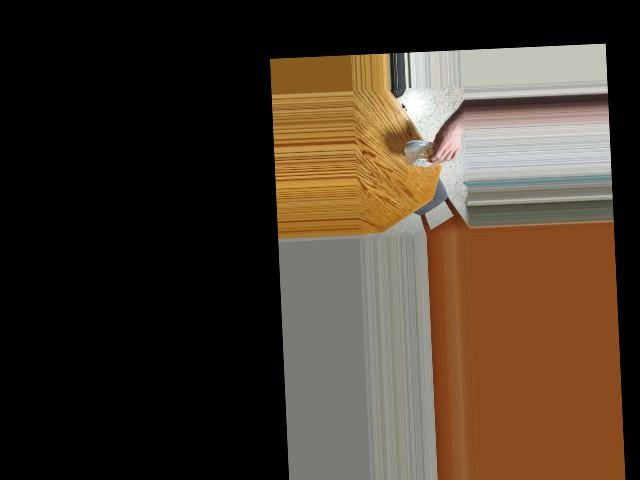cheese: (409, 134, 451, 170)
